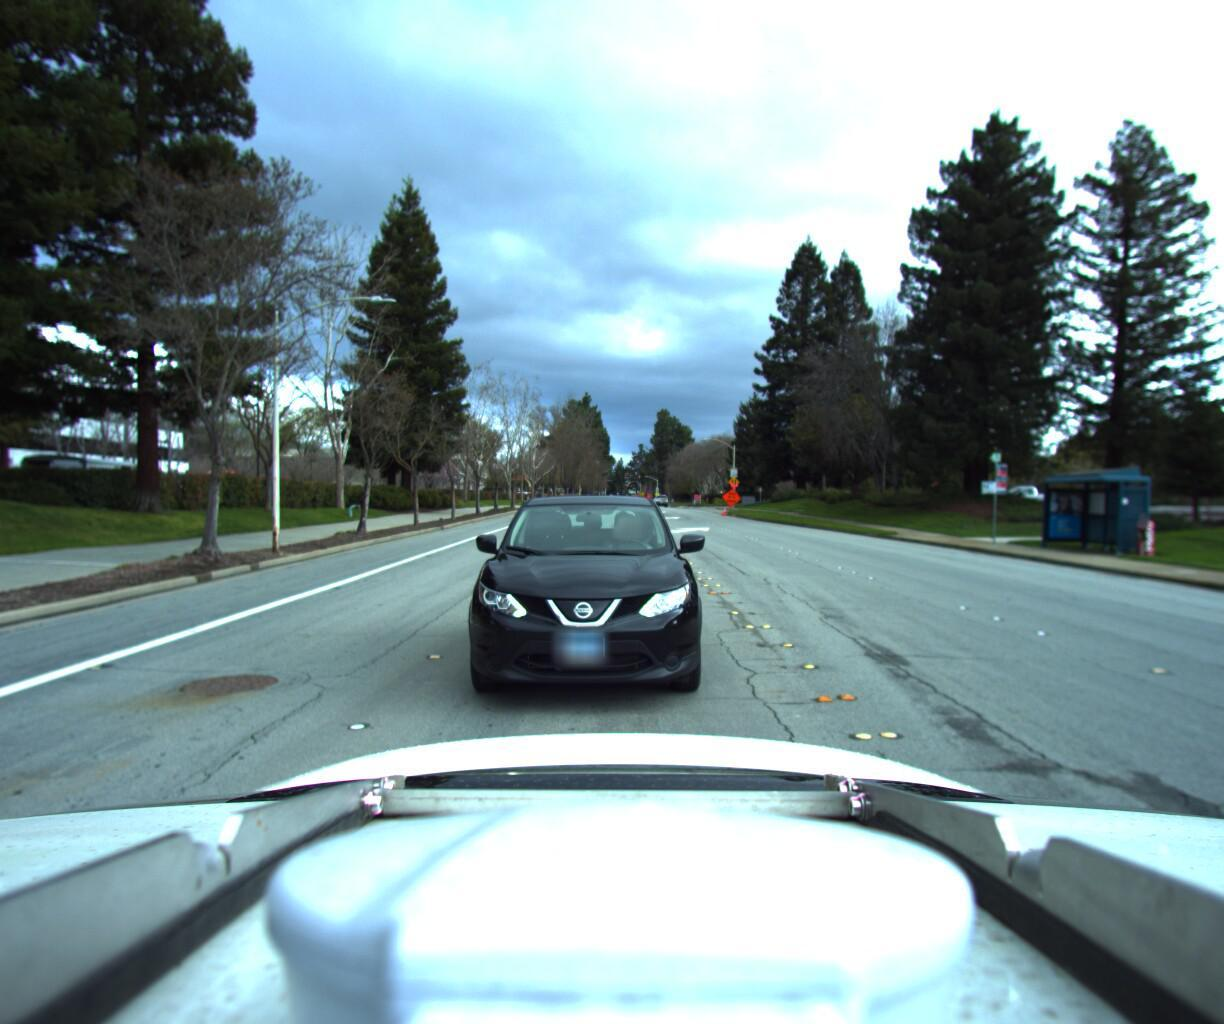car: (453, 485, 710, 722), (554, 493, 580, 510)
